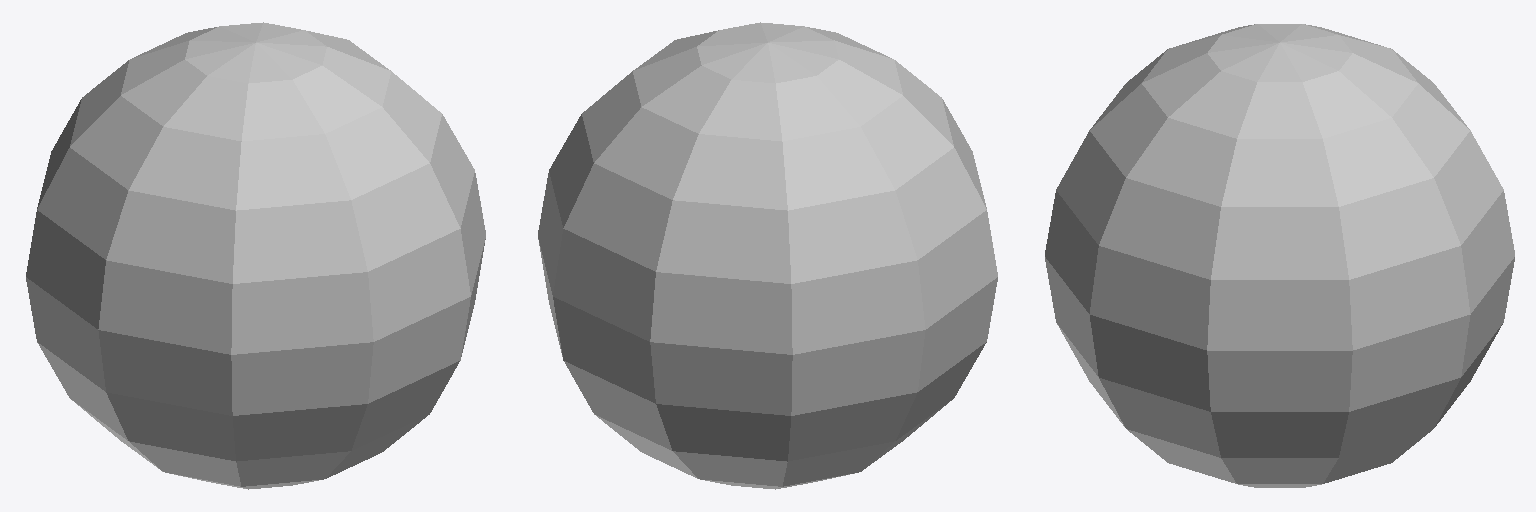
Rendered from bomber.obj.
3 renders of one model, left to right at view 1: azimuth 30°, elevation 25°; view 2: azimuth 150°, elevation 25°; view 3: azimuth 270°, elevation 25°, orthographic.
Visible parts, largest first — view 1: Sphere.001; view 2: Sphere.001; view 3: Sphere.001.
Part boxes in pixels (bbox=[...]): Sphere.001: bbox=[26, 22, 485, 489]; Sphere.001: bbox=[538, 22, 997, 489]; Sphere.001: bbox=[1045, 24, 1514, 487].
Size of the model in its own units: 1.9 by 2 by 2.